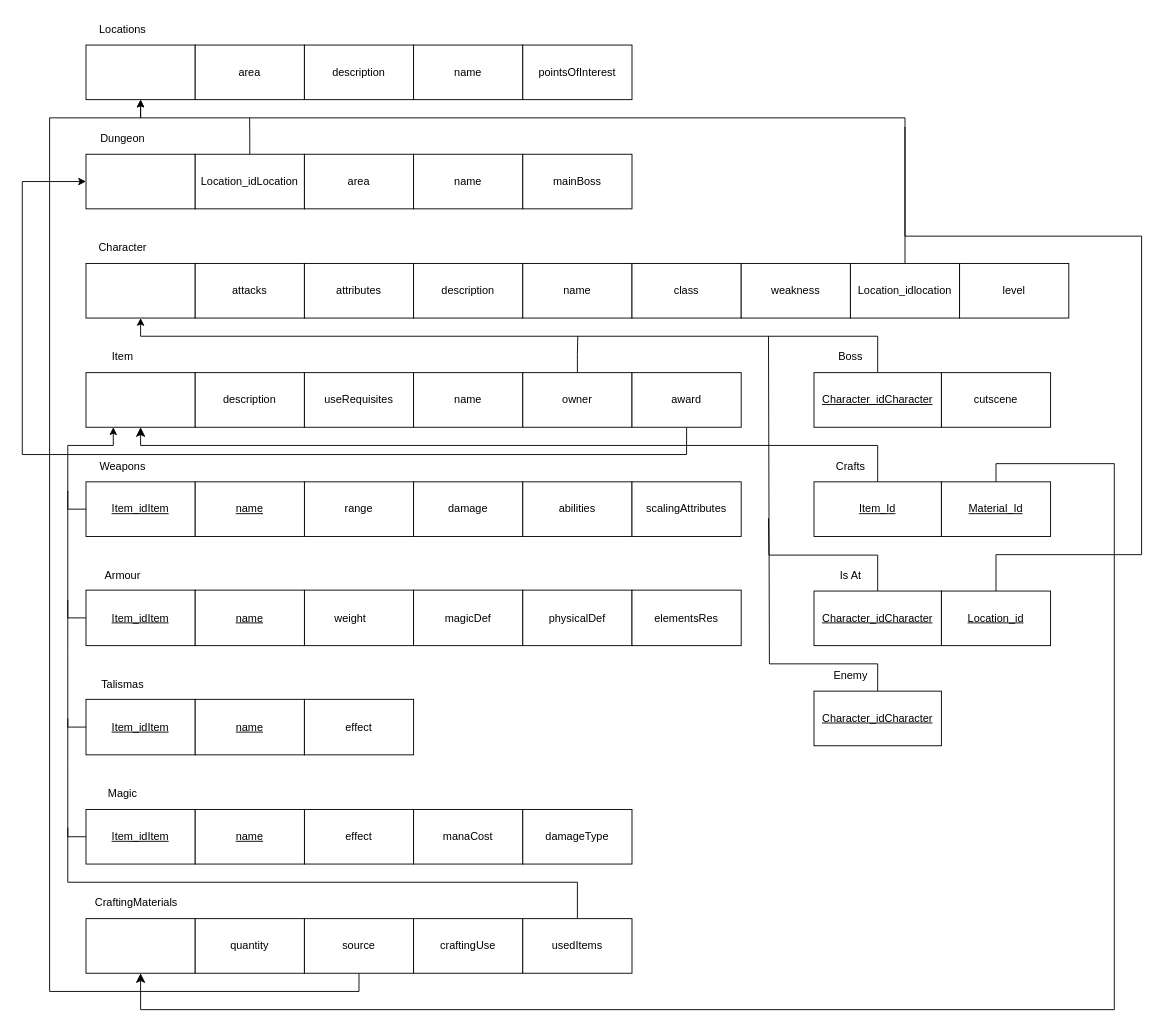
Image size: 1158x1035. Some labels were removed from this diagram. Each missing label, with the centre of its shape:
idCharacter: (140,290)
idCrafting: (140,945)
idDungeon: (140,181)
idItem: (140,399)
idLocation: (140,72)
